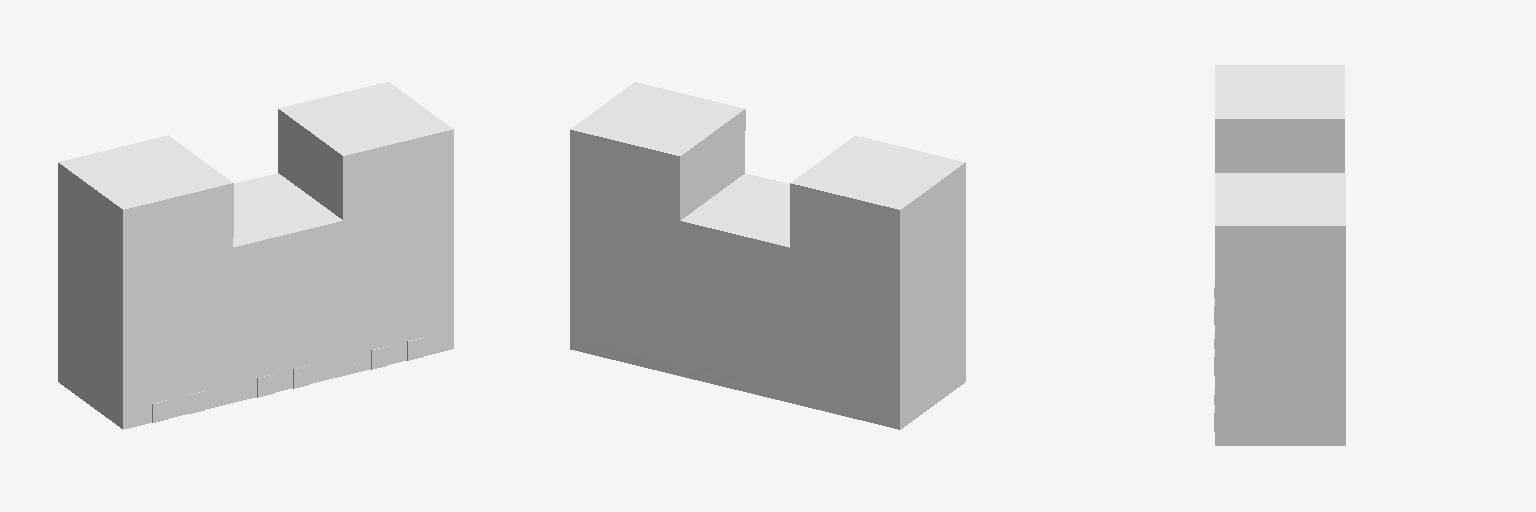
File: city3_h10_LOD.obj
3 views of the same model, side by side, from view 1: azimuth 30°, elevation 25°; view 2: azimuth 150°, elevation 25°; view 3: azimuth 270°, elevation 25° (orthographic).
Visible parts, largest first — view 1: city6; view 2: city6; view 3: city6.
Part boxes in pixels (bbox=[...]): city6: bbox=[58, 82, 453, 429]; city6: bbox=[570, 82, 965, 429]; city6: bbox=[1214, 65, 1345, 445].
Size of the model in its own units: 22.22 by 14.15 by 7.64.